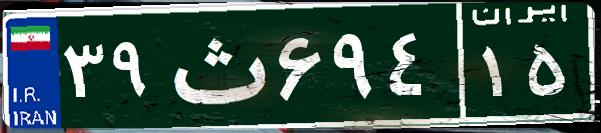1: (475, 38, 525, 113)
3: (57, 26, 110, 107)
4: (385, 28, 445, 110)
5: (525, 38, 570, 115)
6: (273, 28, 330, 110)
9: (330, 28, 385, 110), (110, 28, 158, 105)
ث: (158, 15, 273, 115)
